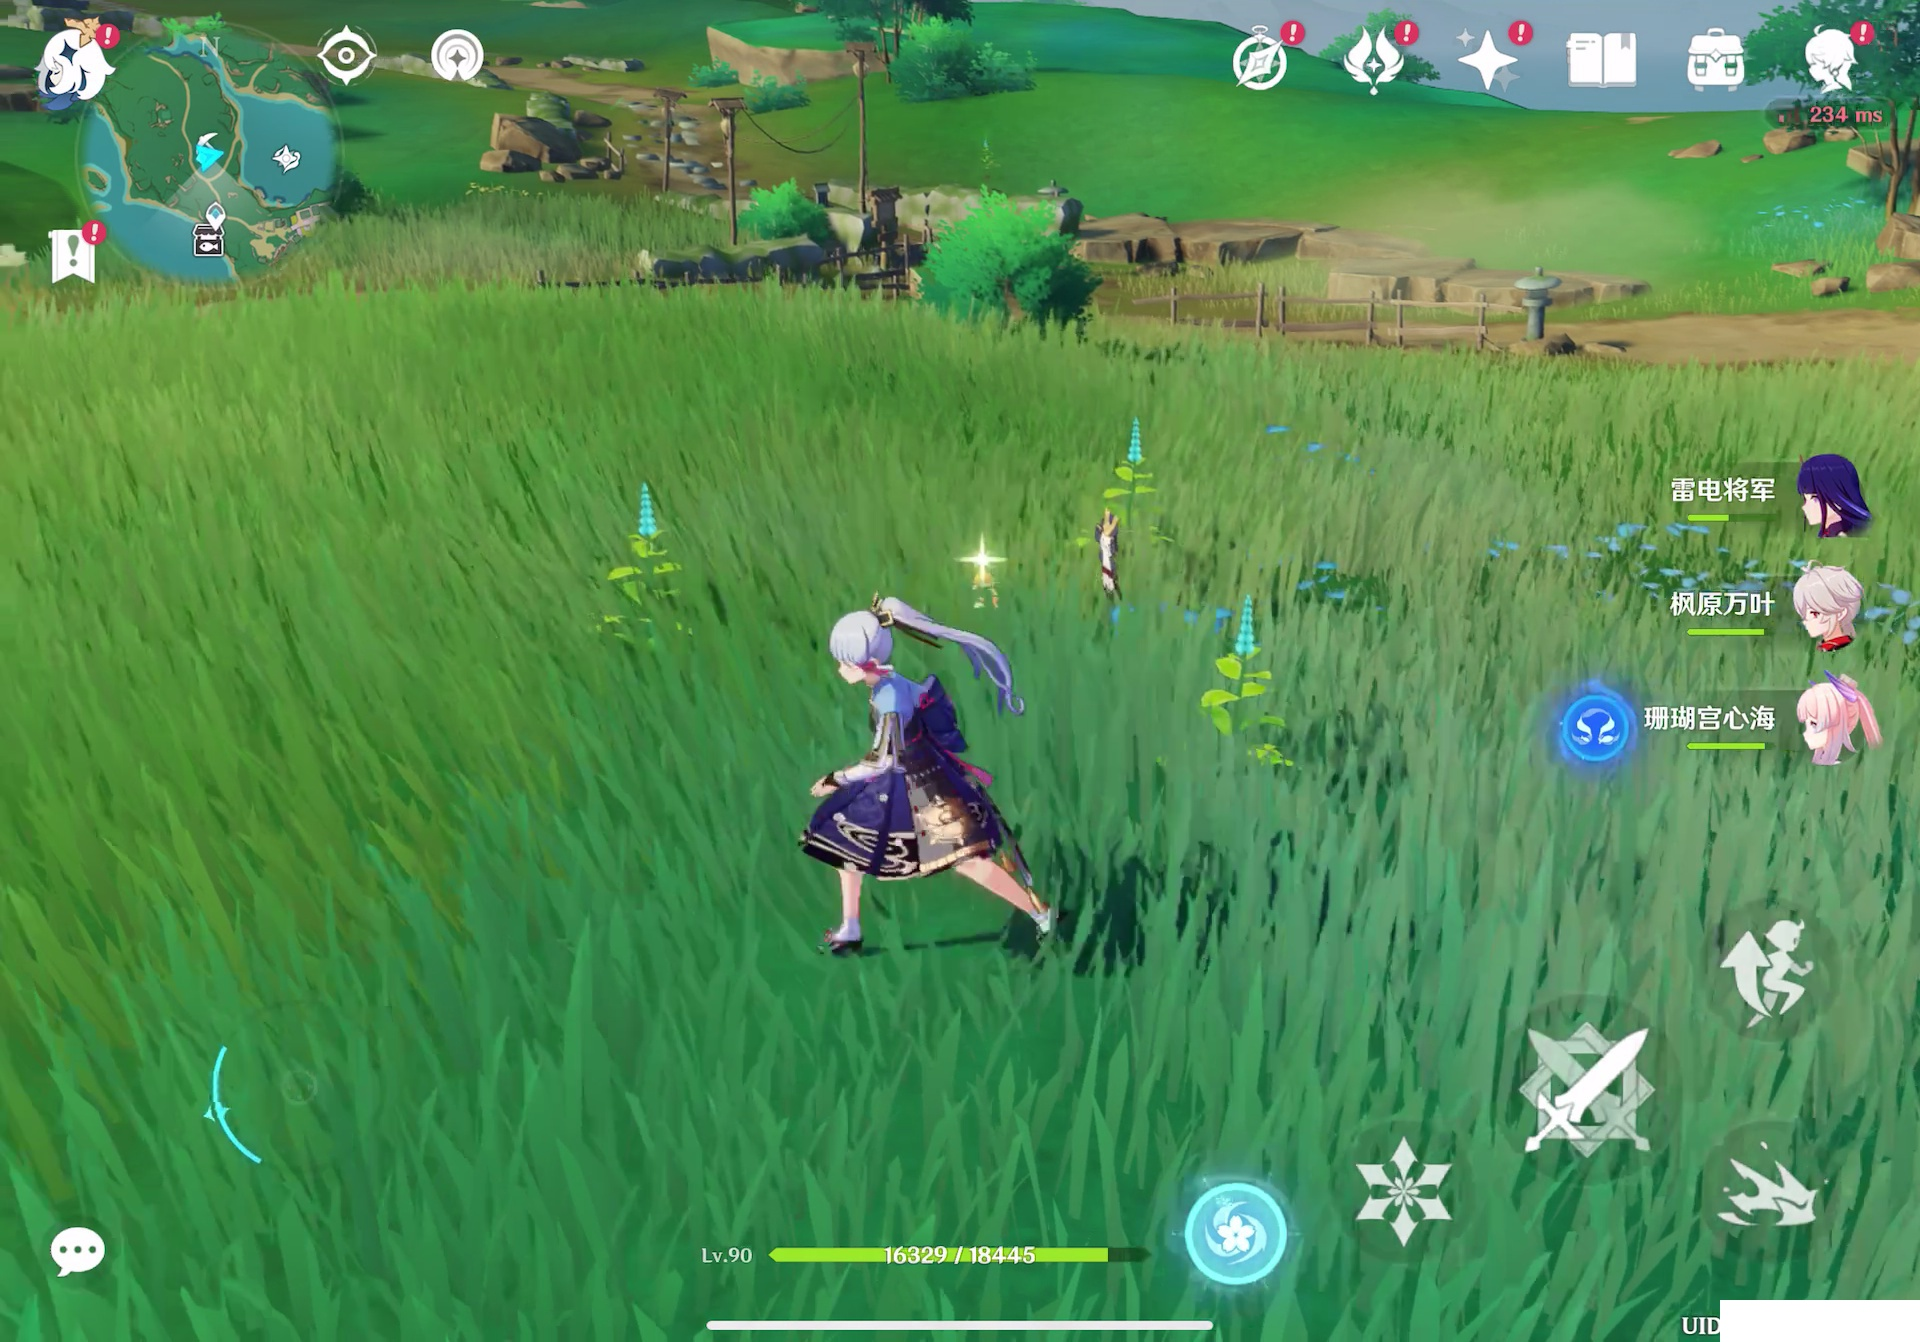没用的甜甜花: (945, 538, 1026, 614)
没用的薄荷: (592, 470, 716, 659), (1188, 589, 1304, 791), (1100, 410, 1172, 505)
神里绫龟: (778, 586, 1072, 967)
